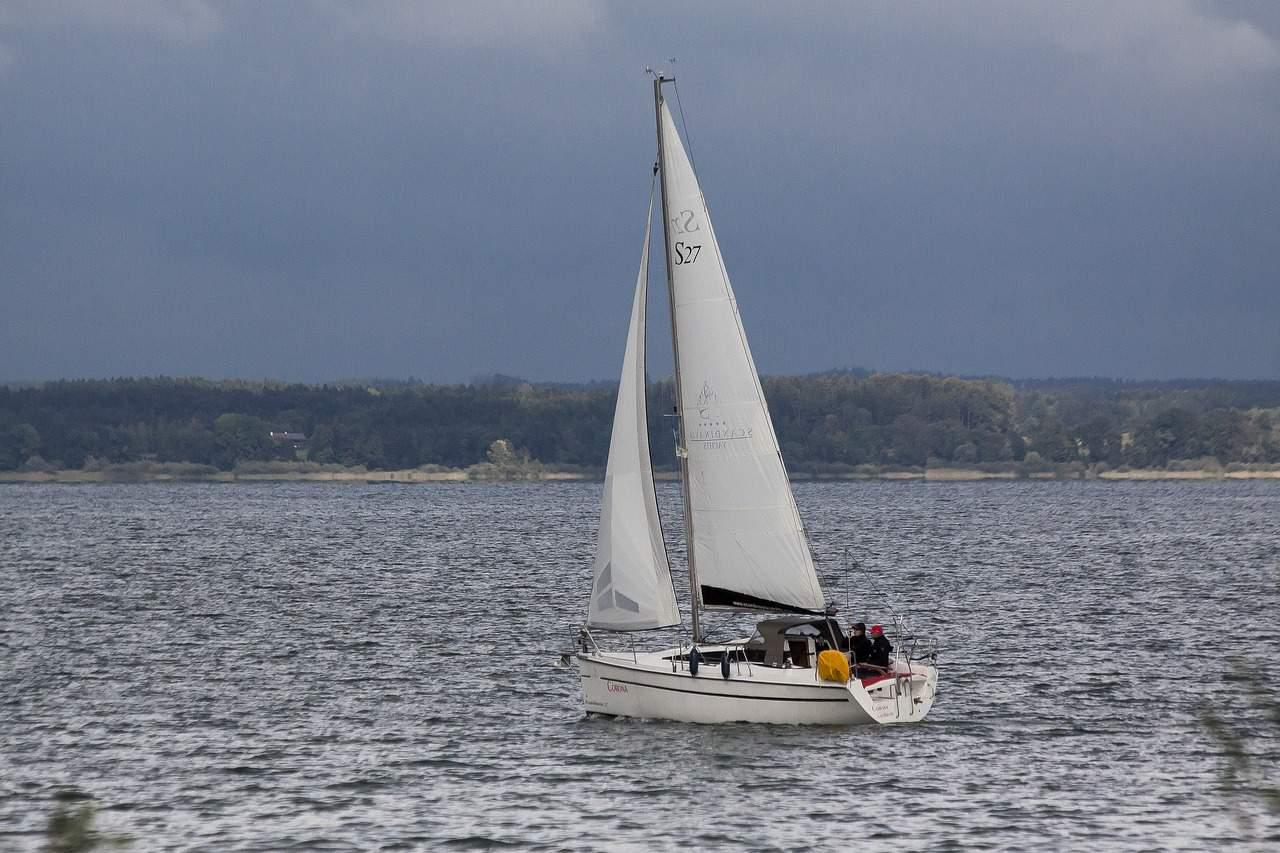Ship: (577, 56, 941, 731)
